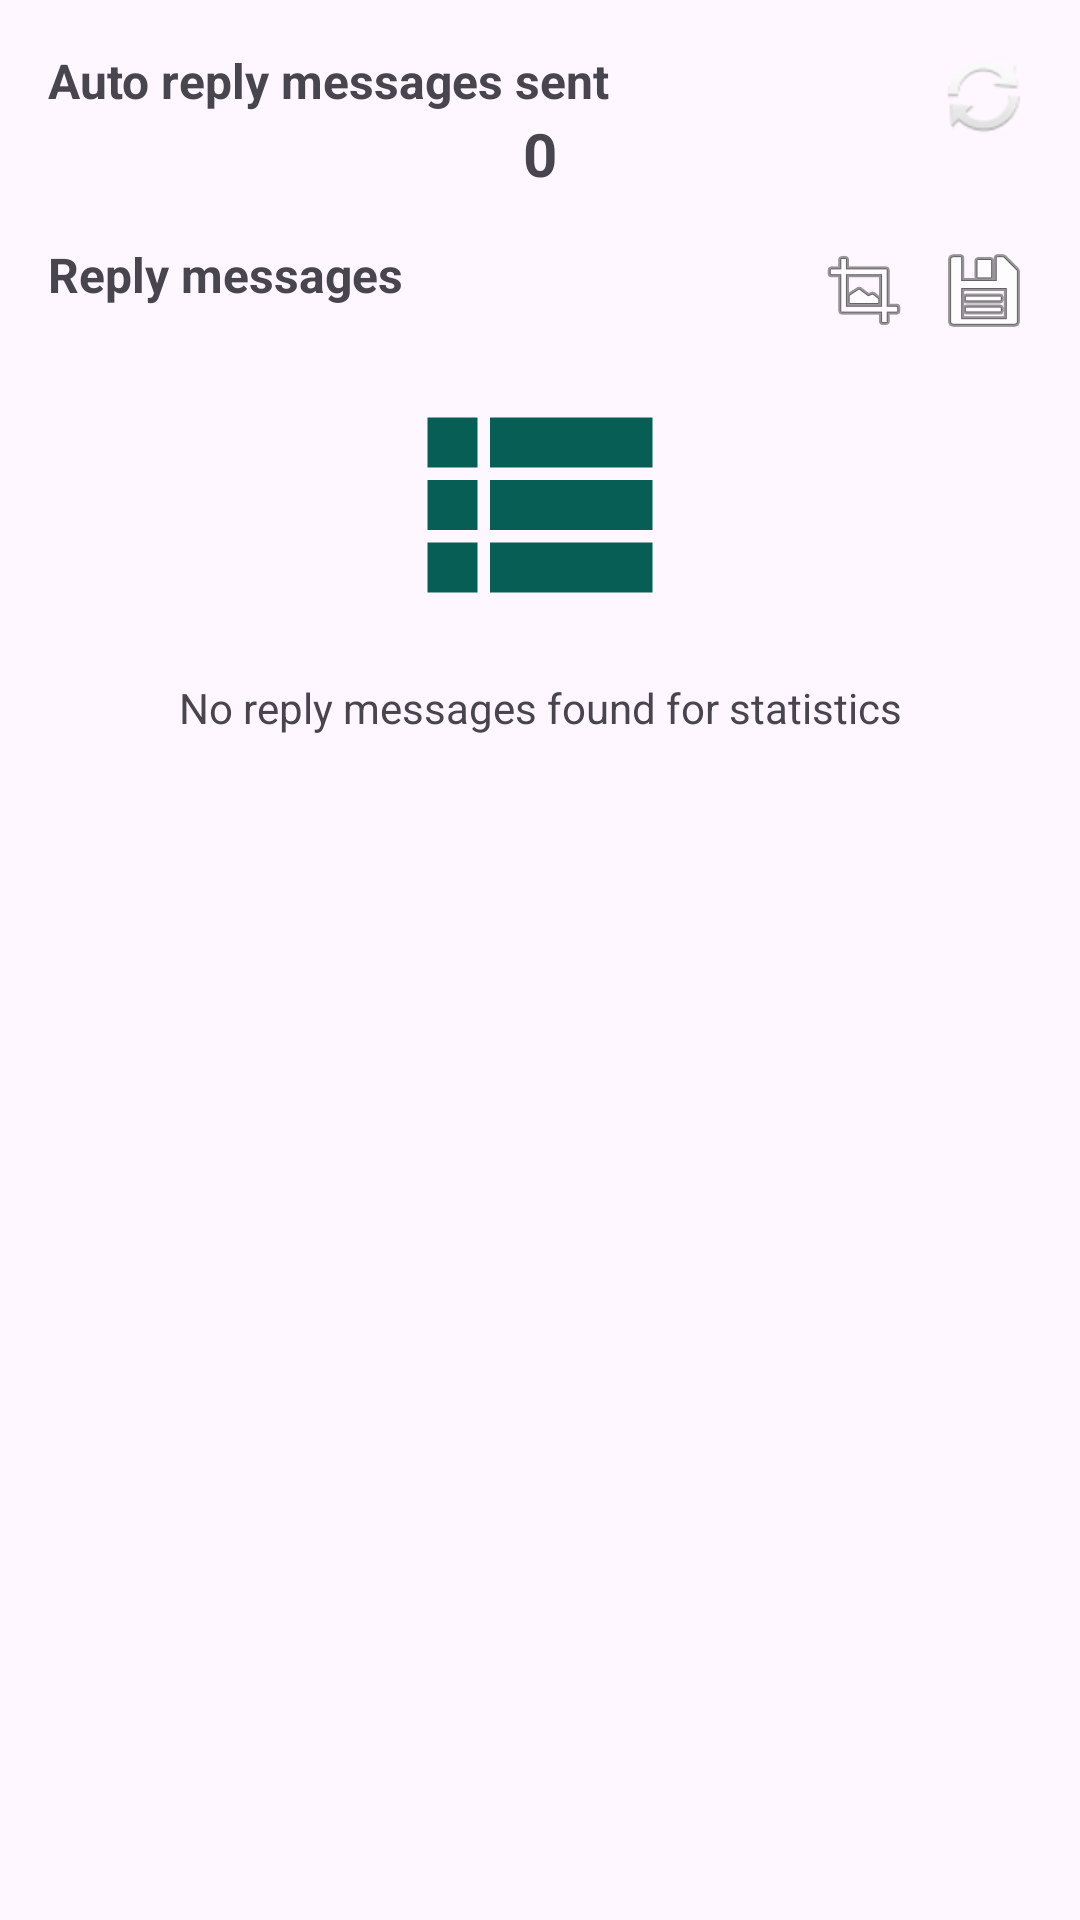

Screen size 1080x1920. Icon name, then its center in pixels as (x,y):
crop: (864,290)
popup sync: (983,100)
save: (984,290)
spreadsheet: (540,505)
